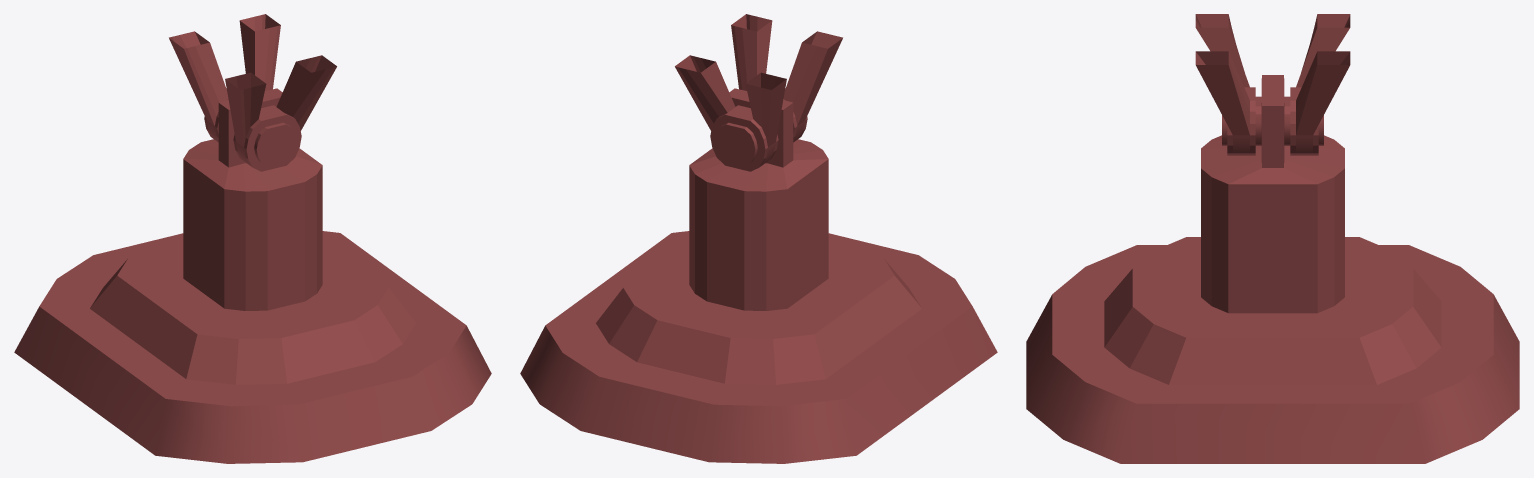
Rendered from SM_TurretGun_Bottom.fbx.
The picture shows the model from 3 angles, left to right: view 1: azimuth 30°, elevation 25°; view 2: azimuth 150°, elevation 25°; view 3: azimuth 270°, elevation 25°; orthographic projection. The views are drawn at different scales.
Visible parts, largest first — view 1: pCylinder12; view 2: pCylinder12; view 3: pCylinder12.
Boxes of the visible parts, x1,y1,x2,y2 form: pCylinder12: [14, 14, 491, 463]; pCylinder12: [520, 14, 997, 463]; pCylinder12: [1026, 14, 1519, 463].
Bounding box in the file's own units: 61.25 × 54.1 × 72.
